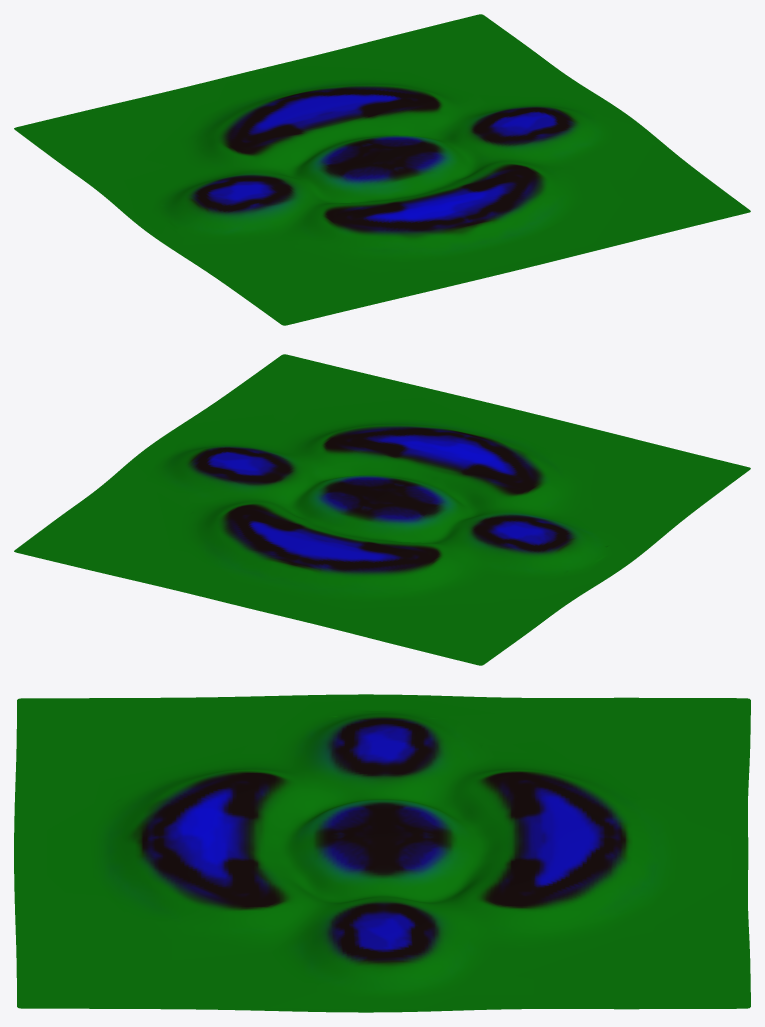
The model's file is Ground.fbx.
3 views of the same model, one above another, from view 1: azimuth 30°, elevation 25°; view 2: azimuth 150°, elevation 25°; view 3: azimuth 270°, elevation 25° (orthographic). The views are drawn at different scales.
Parts seen in each view (by area): view 1: Island.001; view 2: Island.001; view 3: Island.001.
Boxes of the visible parts, x1=… form: Island.001: x1=14, y1=14, x2=750, y2=325; Island.001: x1=14, y1=354, x2=750, y2=665; Island.001: x1=14, y1=694, x2=750, y2=1012.
Bounding box in the file's own units: 11766 × 324 × 11522.
